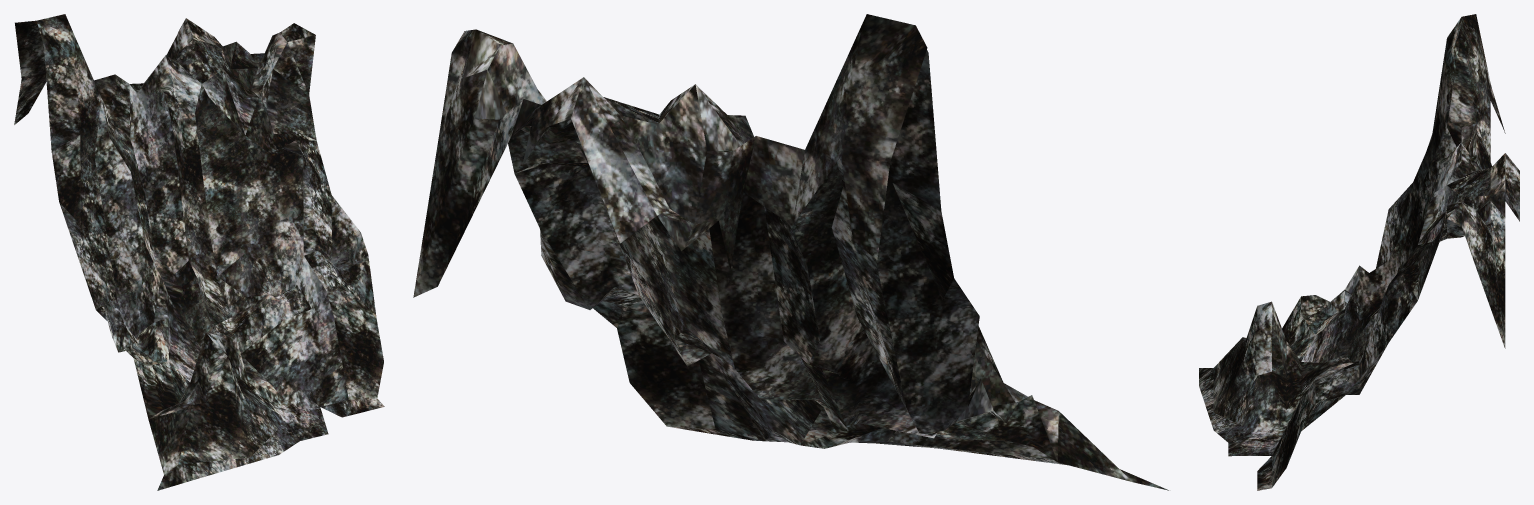
The model's file is OVERHILL_A_01_OBJECT26.fbx.
The picture shows the model from 3 angles, left to right: view 1: azimuth 30°, elevation 25°; view 2: azimuth 150°, elevation 25°; view 3: azimuth 270°, elevation 25°; orthographic projection. The views are drawn at different scales.
Visible parts, largest first — view 1: OVERHILL_A_01_OBJECT26; view 2: OVERHILL_A_01_OBJECT26; view 3: OVERHILL_A_01_OBJECT26.
Boxes of the visible parts, bbox=[...] form: OVERHILL_A_01_OBJECT26: bbox=[14, 14, 384, 490]; OVERHILL_A_01_OBJECT26: bbox=[413, 14, 1168, 490]; OVERHILL_A_01_OBJECT26: bbox=[1199, 14, 1519, 490].
Size of the model in its own units: 274752 by 338630 by 274235.
Materials: 1 (1 with a texture image).
